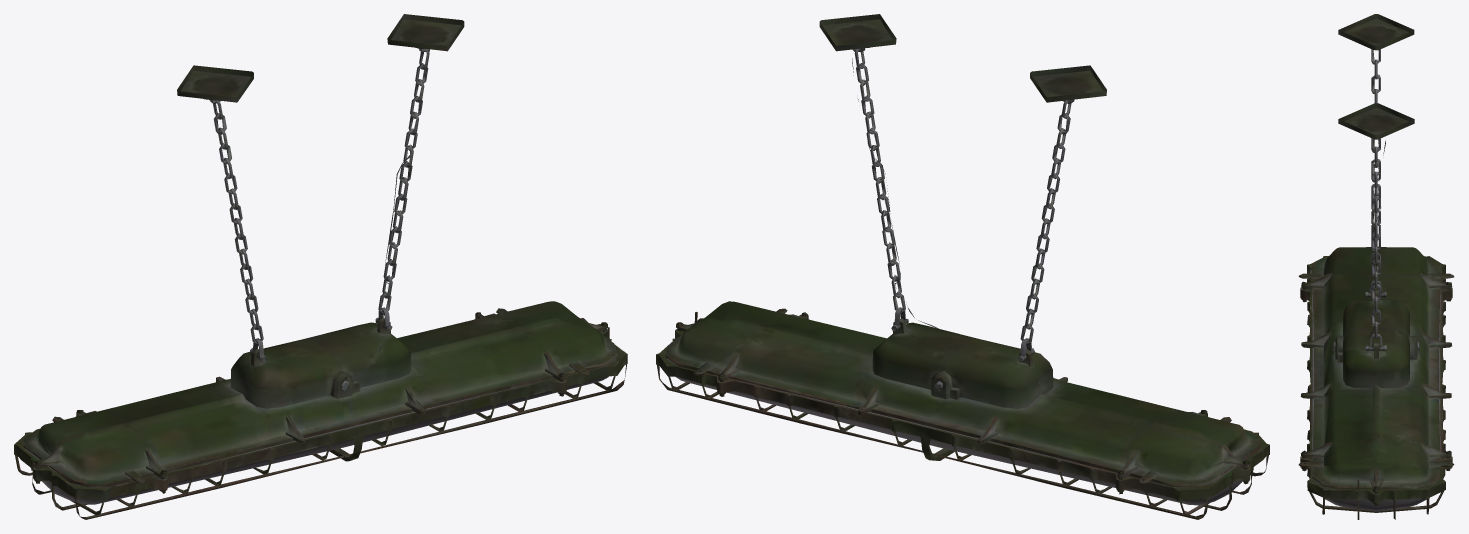
Rendered from caged_hanging_light.glb.
3 views of the same model, side by side, from view 1: azimuth 30°, elevation 25°; view 2: azimuth 150°, elevation 25°; view 3: azimuth 270°, elevation 25° (orthographic). The views are drawn at different scales.
Parts seen in each view (by area): view 1: caged_hanging_light; view 2: caged_hanging_light; view 3: caged_hanging_light.
Part boxes in pixels (<box>): caged_hanging_light: <box>14,14,627,519</box>; caged_hanging_light: <box>656,14,1269,519</box>; caged_hanging_light: <box>1298,14,1454,519</box>.
Bounding box in the file's own units: 1.16 × 0.7501 × 0.3149.
Materials: 1 (1 with a texture image).
